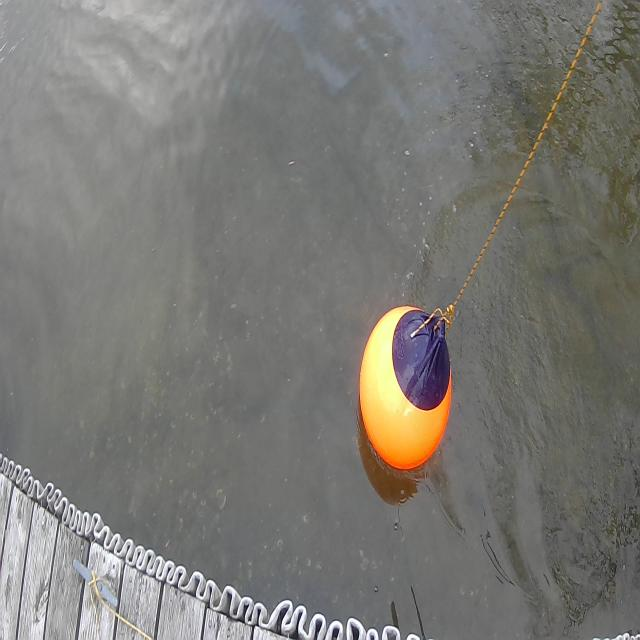Buoy: (353, 282, 457, 488)
